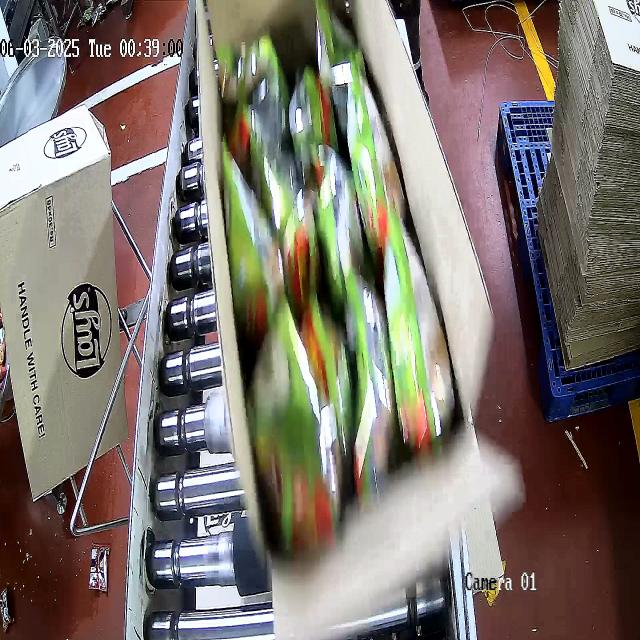YOGURT_HERB: (230, 14, 416, 516)
